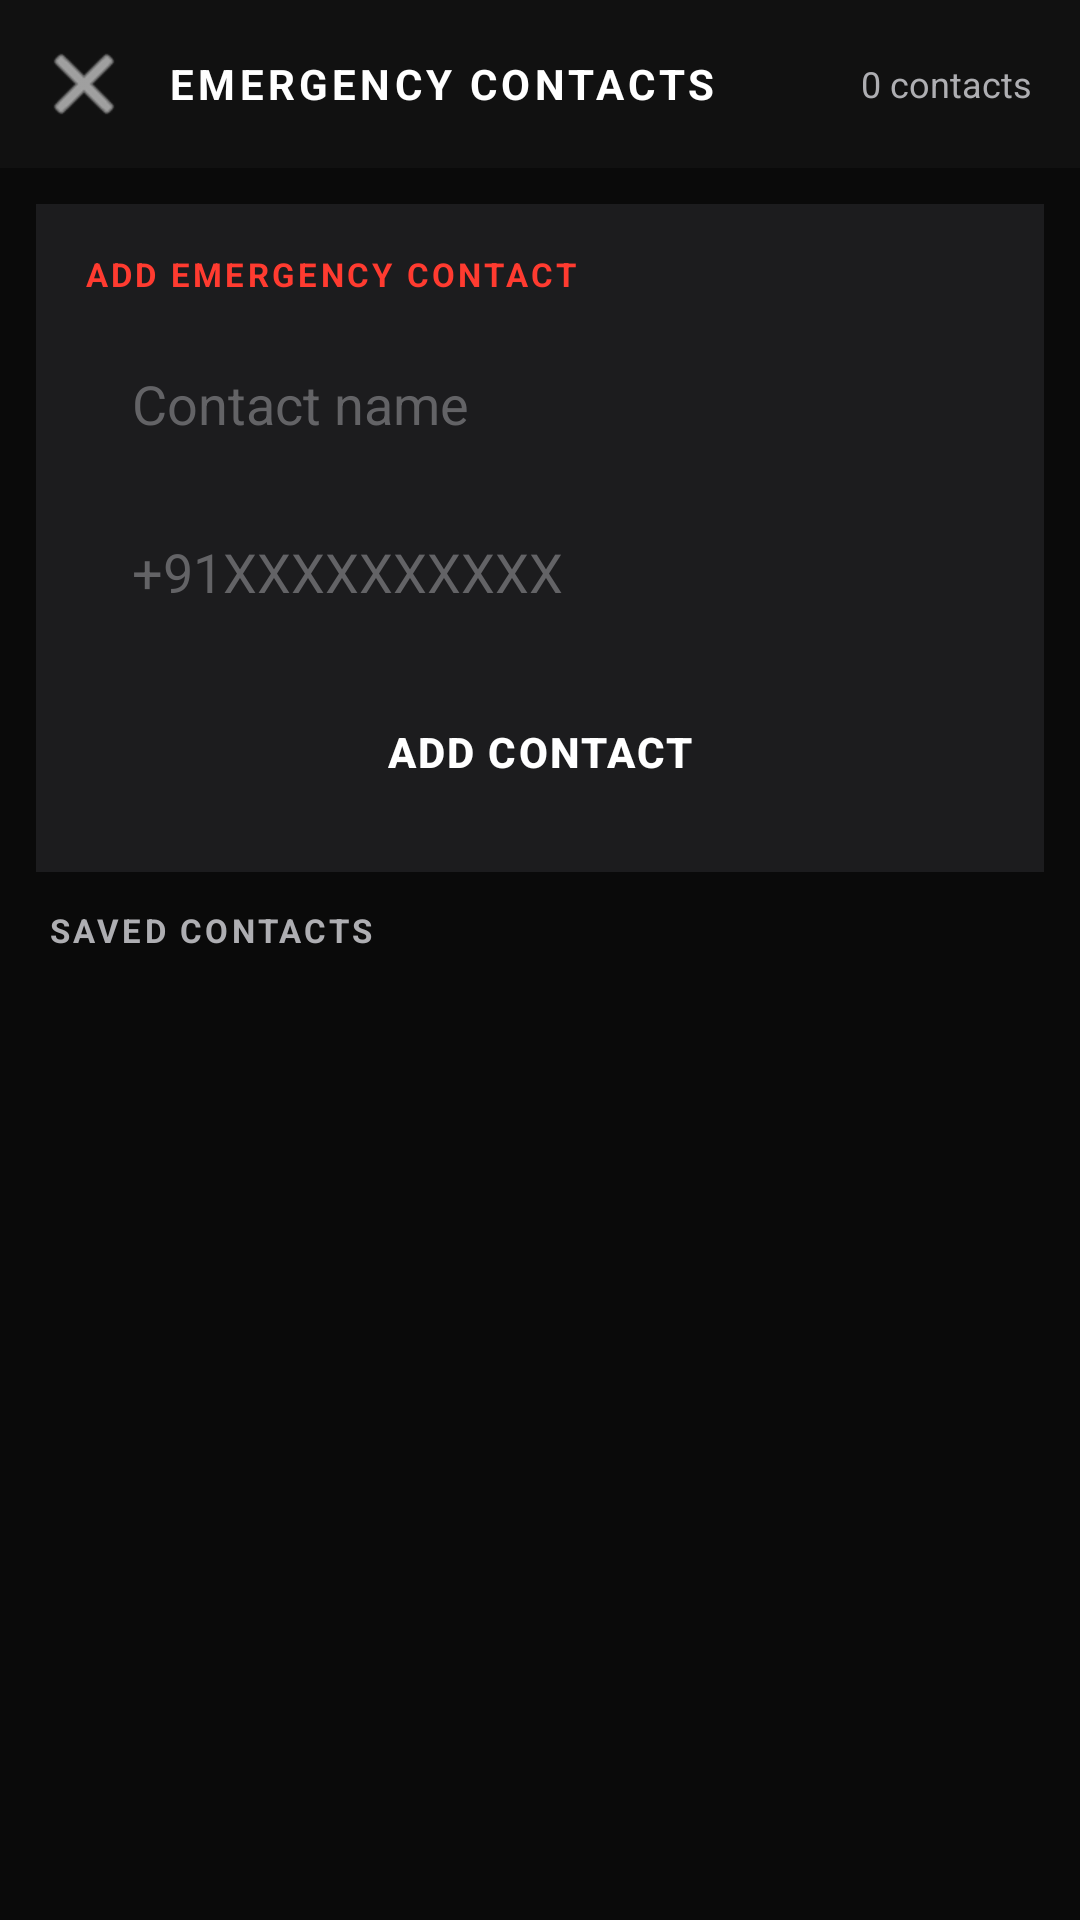

Point at icon controls on the screen. Image size 1080 x 1920, points as (x,y).
Back: (84,84)
